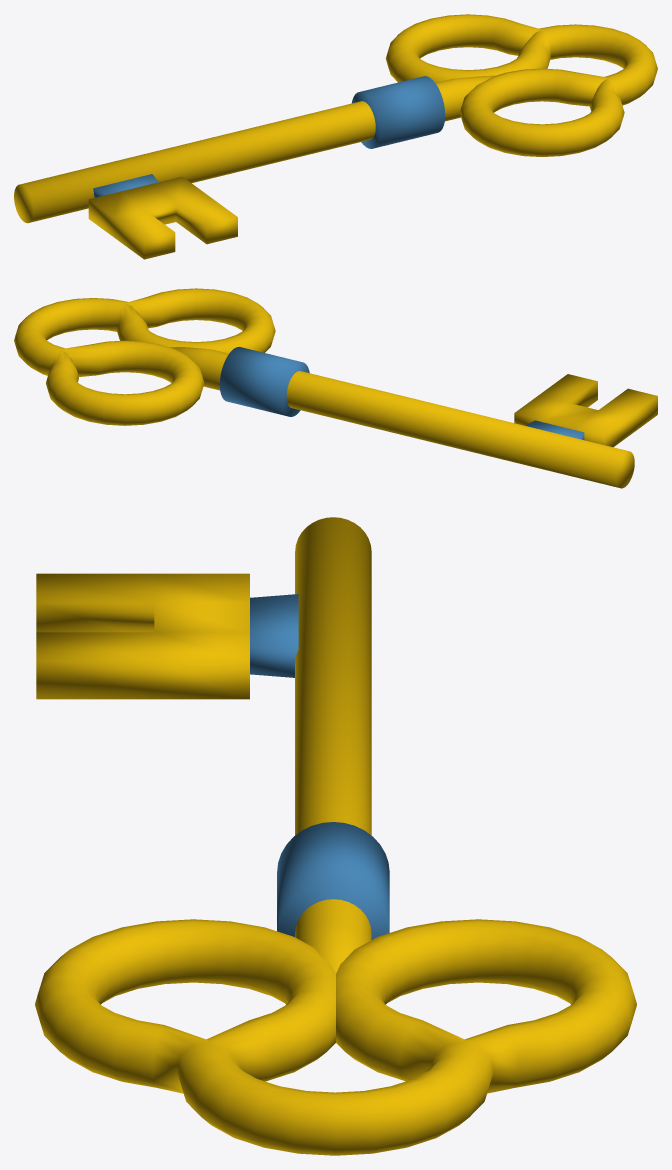
Rendered from Key.glb.
3 renders of one model, top to bottom at view 1: azimuth 30°, elevation 25°; view 2: azimuth 150°, elevation 25°; view 3: azimuth 270°, elevation 25°, orthographic. The views are drawn at different scales.
Visible parts, largest first — view 1: Key; view 2: Key; view 3: Key.
Boxes of the visible parts, x1,y1,x2,y2 form: Key: (14, 14, 657, 259); Key: (14, 288, 657, 488); Key: (35, 517, 636, 1155).
Size of the model in its own units: 1.32 by 0.1074 by 0.5734.
